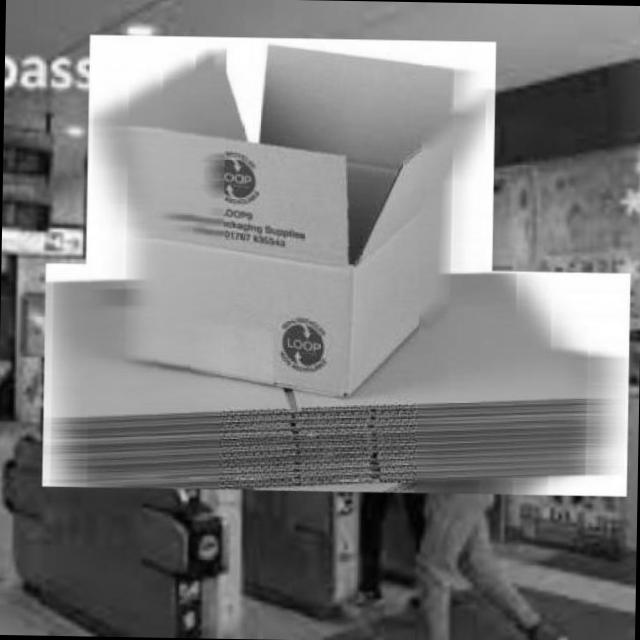box: (78, 29, 503, 400), (33, 259, 640, 501)
